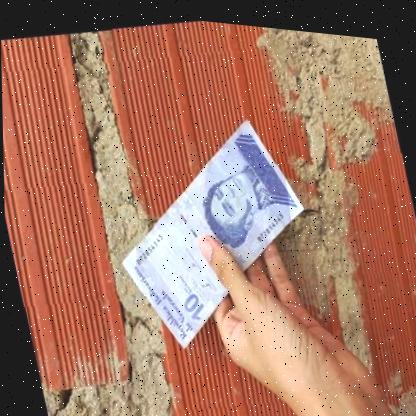ten-front-vef: (93, 94, 329, 364)
